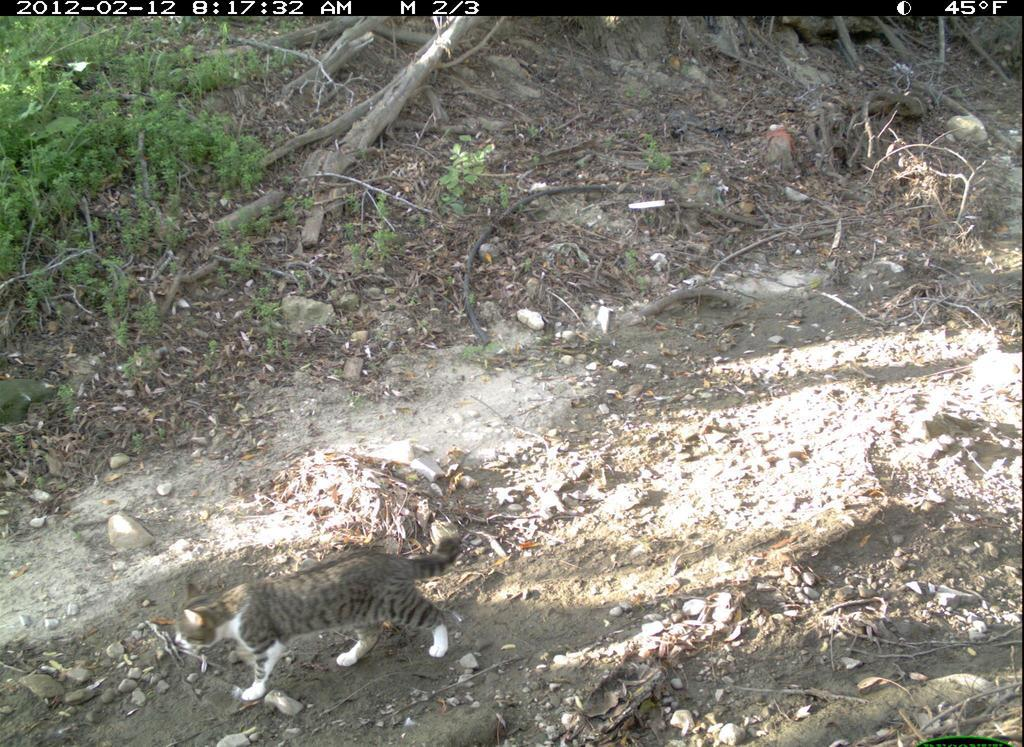cat: (152, 533, 478, 707)
